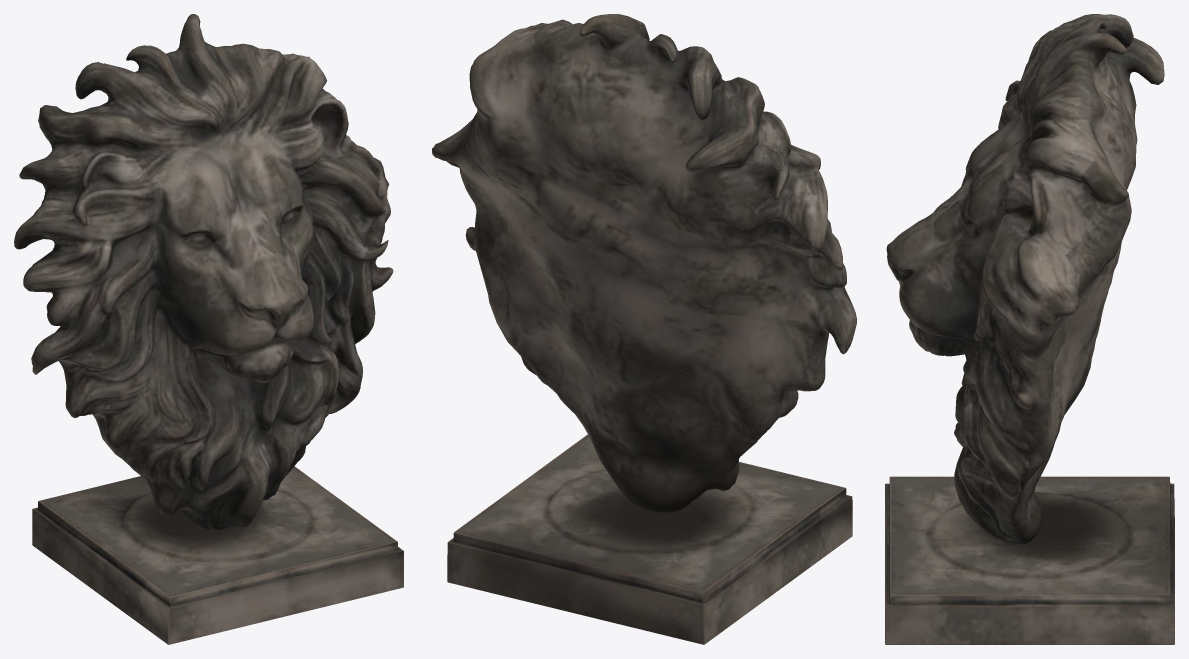
The model's file is lion_head.glb.
3 renders of one model, left to right at view 1: azimuth 30°, elevation 25°; view 2: azimuth 150°, elevation 25°; view 3: azimuth 270°, elevation 25°, orthographic. The views are drawn at different scales.
Parts seen in each view (by area): view 1: lion_head; view 2: lion_head; view 3: lion_head.
Part boxes in pixels (x1=…): lion_head: x1=14, y1=14, x2=403, y2=644; lion_head: x1=432, y1=14, x2=856, y2=644; lion_head: x1=885, y1=14, x2=1174, y2=644.
Size of the model in its own units: 0.3208 by 0.4364 by 0.2066.
1 material, 1 textured.
